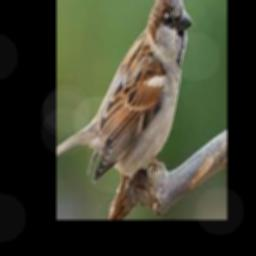Sparrow: (56, 0, 192, 183)
